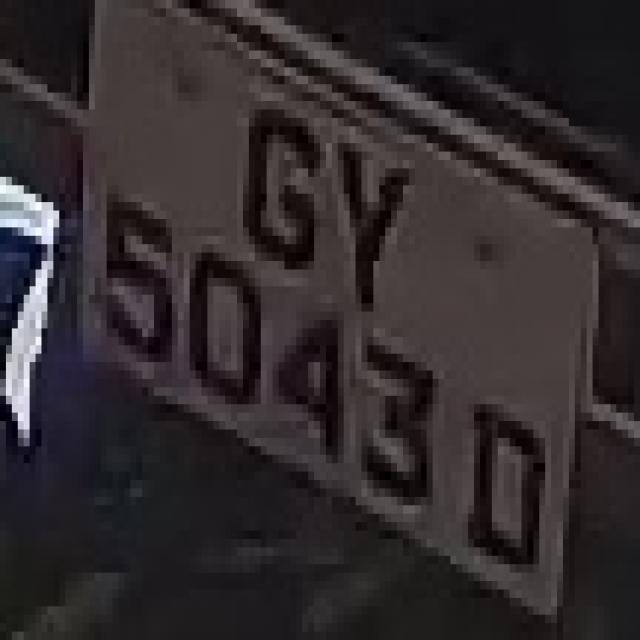0: (178, 219, 266, 429)
3: (362, 312, 432, 530)
4: (254, 261, 350, 497)
5: (83, 160, 184, 371)
D: (450, 387, 546, 615)
G: (225, 76, 326, 286)
Y: (326, 101, 409, 328)
